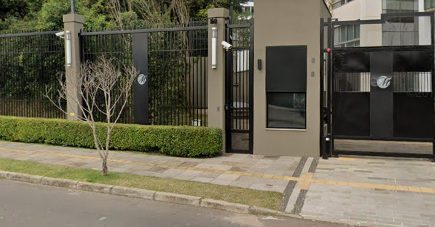vag48: (5, 110, 283, 223)
